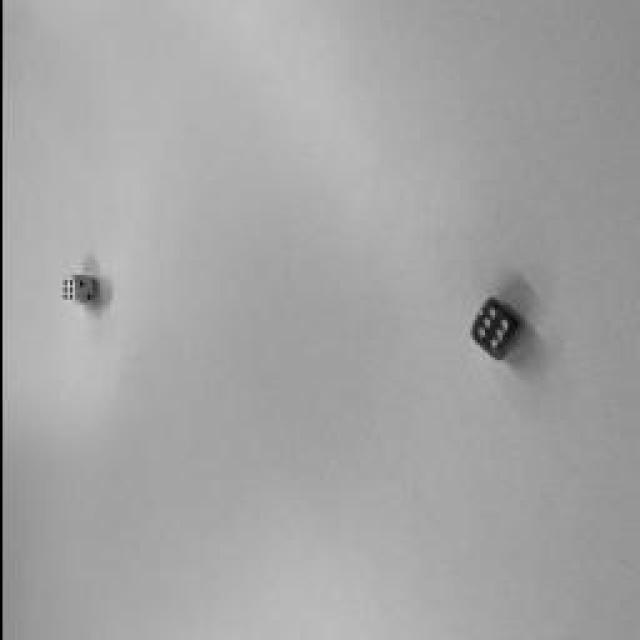dice_6: (470, 303, 512, 355), (59, 275, 71, 305)
